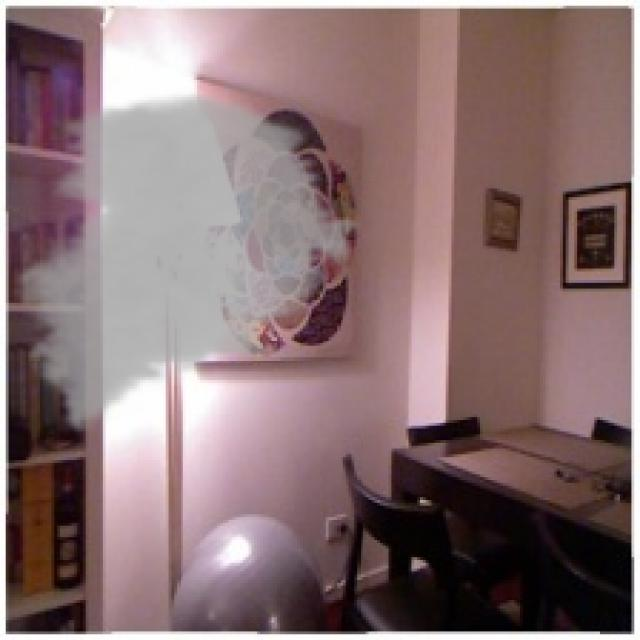smoke: (3, 89, 366, 434)
